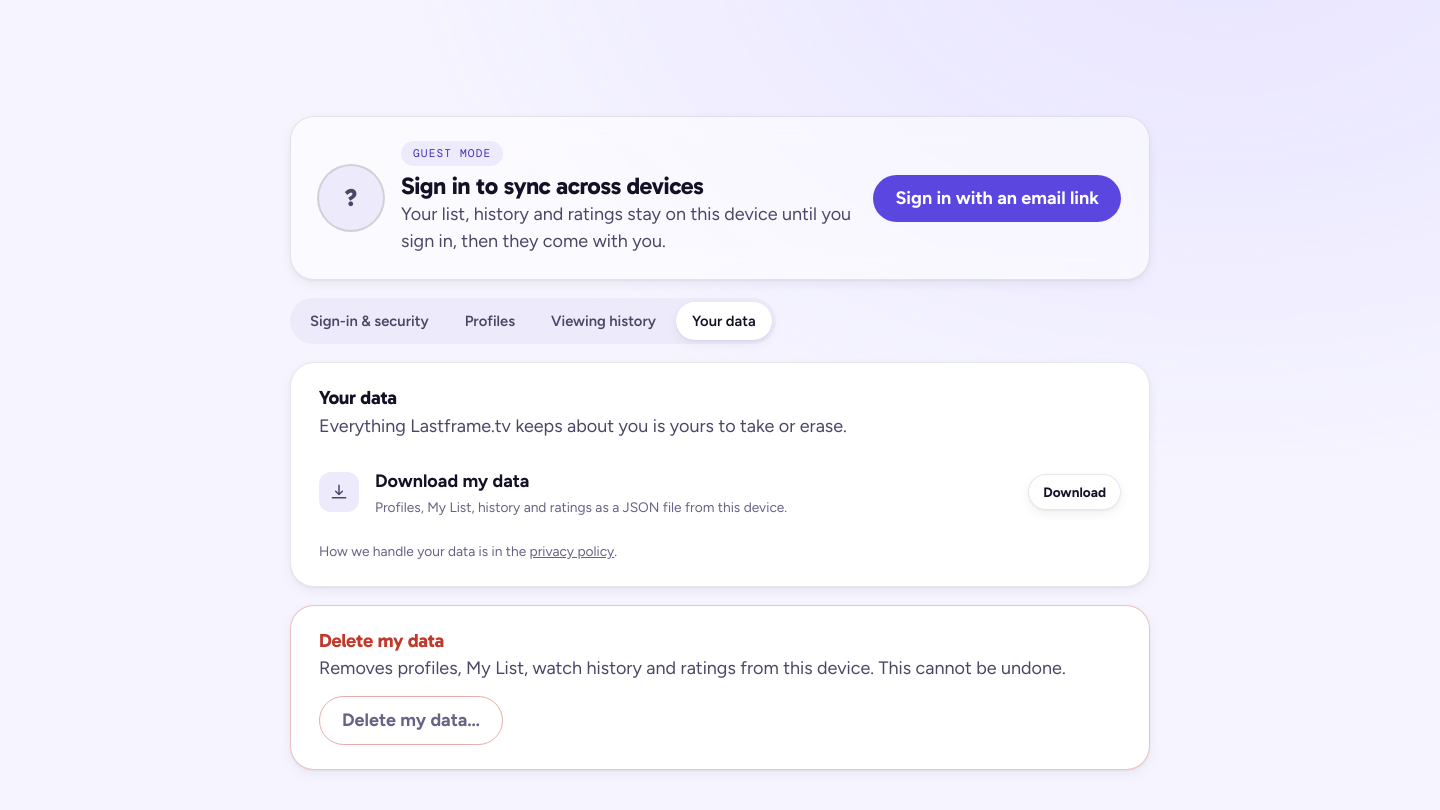
Test: Delete my data clears the PWA image cache › deletes the lf-images cache in guest/mock mode
Click the button "Delete my data…": (411,720) [319,696,503,745]
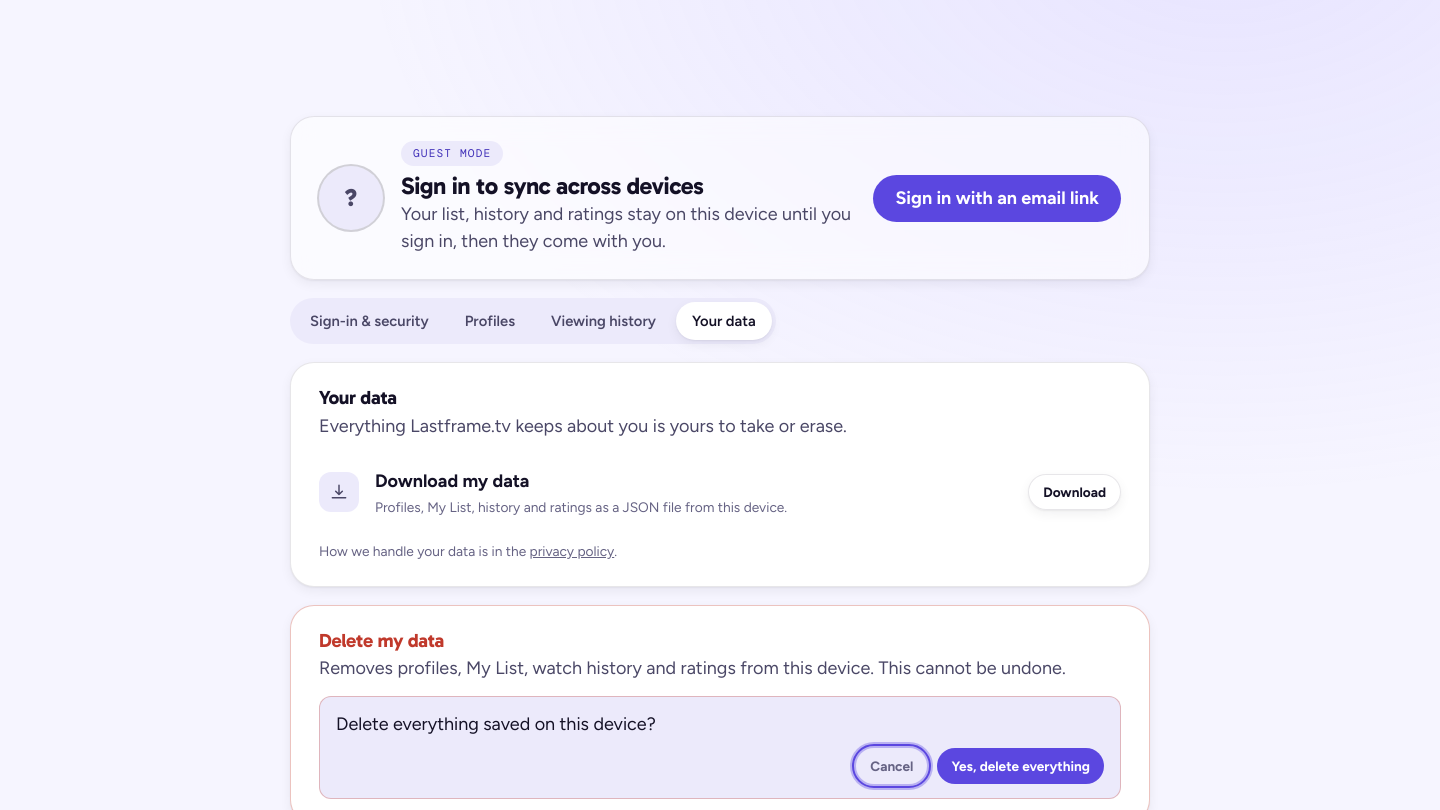
Click the button "Yes, delete everything": (1021,766) [937,748,1104,784]
(page scrolled)
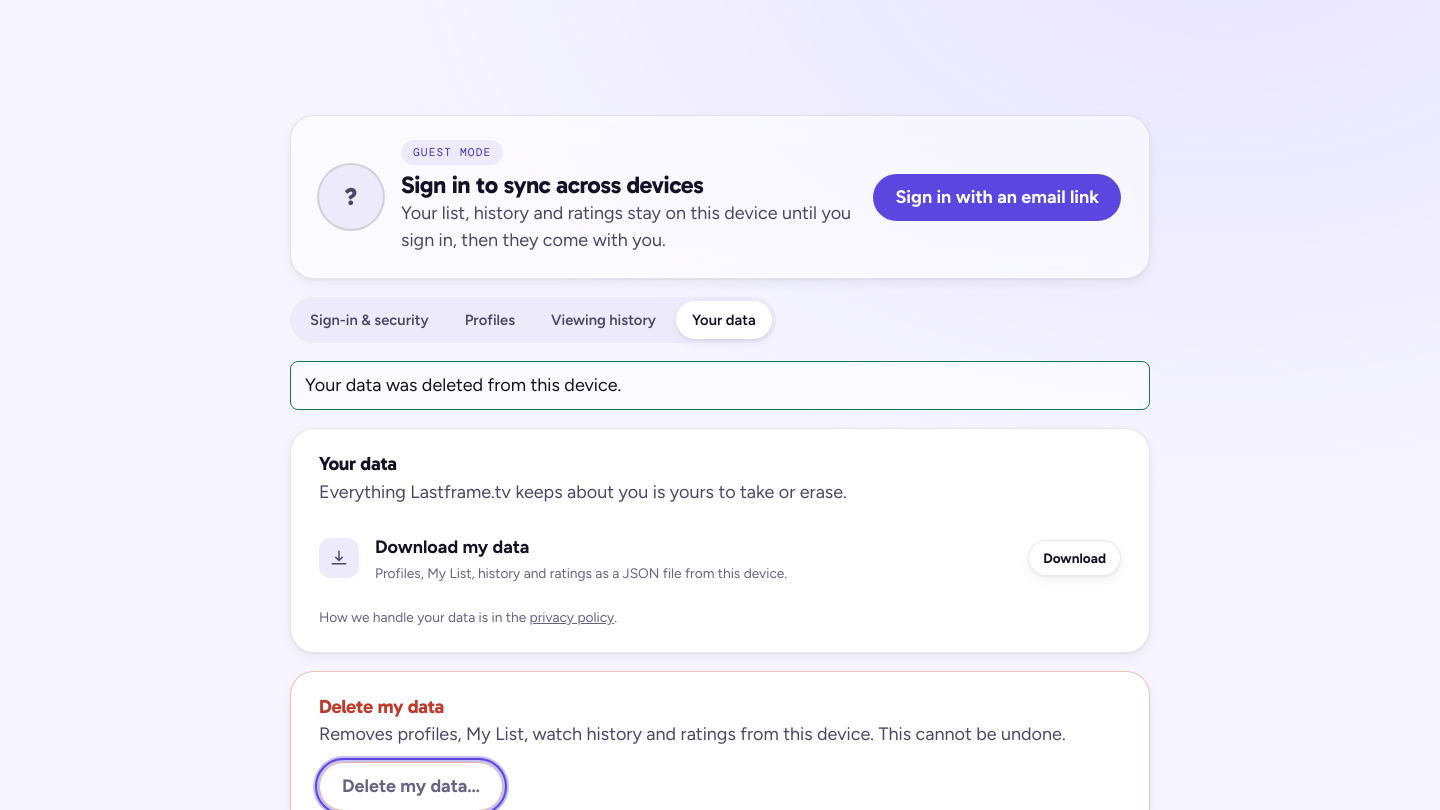
Expected: the message shows "deleted", [305,374,621,396]
